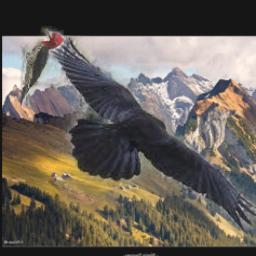Crow: (45, 35, 256, 230)
Woodpecker: (21, 27, 64, 108)
